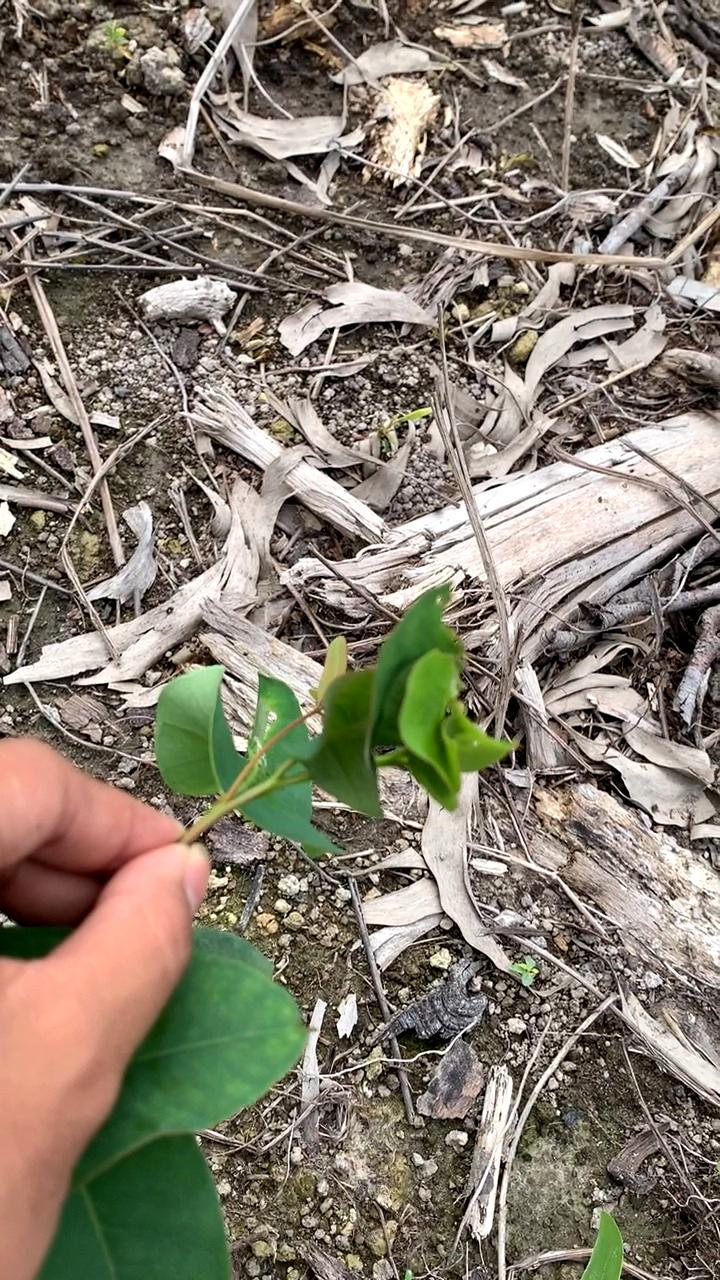Leaf Roller - Leaf: (313, 588, 521, 835)
